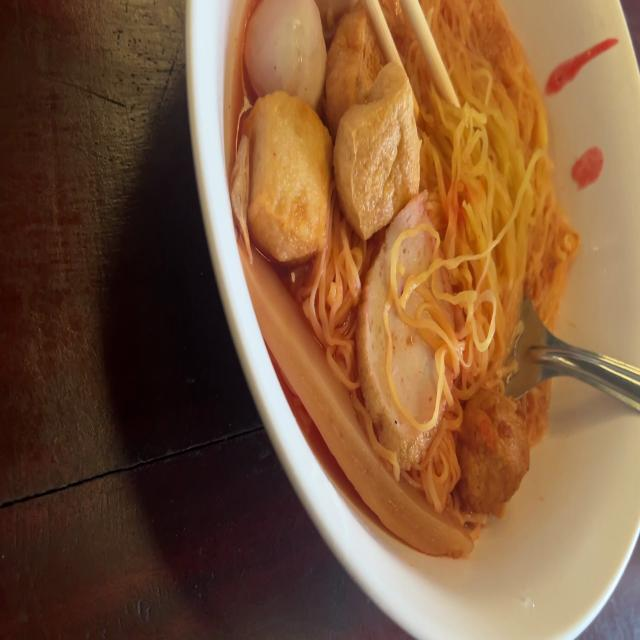crunchy_squid: (236, 230, 481, 569)
egg_noodles: (389, 0, 577, 443)
fish_ball: (241, 0, 330, 113)
fried_fish_balls: (363, 188, 456, 472)
fried_tofu: (340, 69, 421, 230), (329, 0, 382, 129)
noodle: (232, 0, 571, 546)
tofu: (246, 92, 334, 266)
